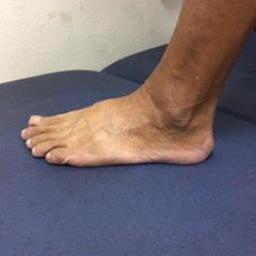Lateral View -Left Foot-: (15, 62, 232, 178)
